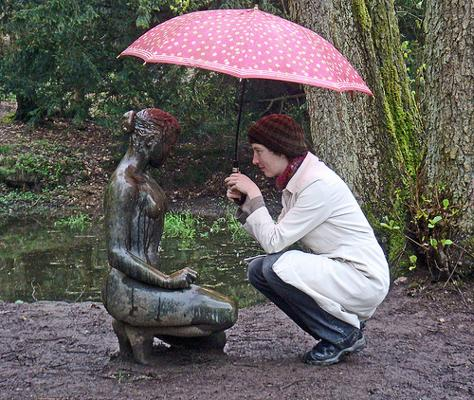person: (225, 114, 392, 366)
